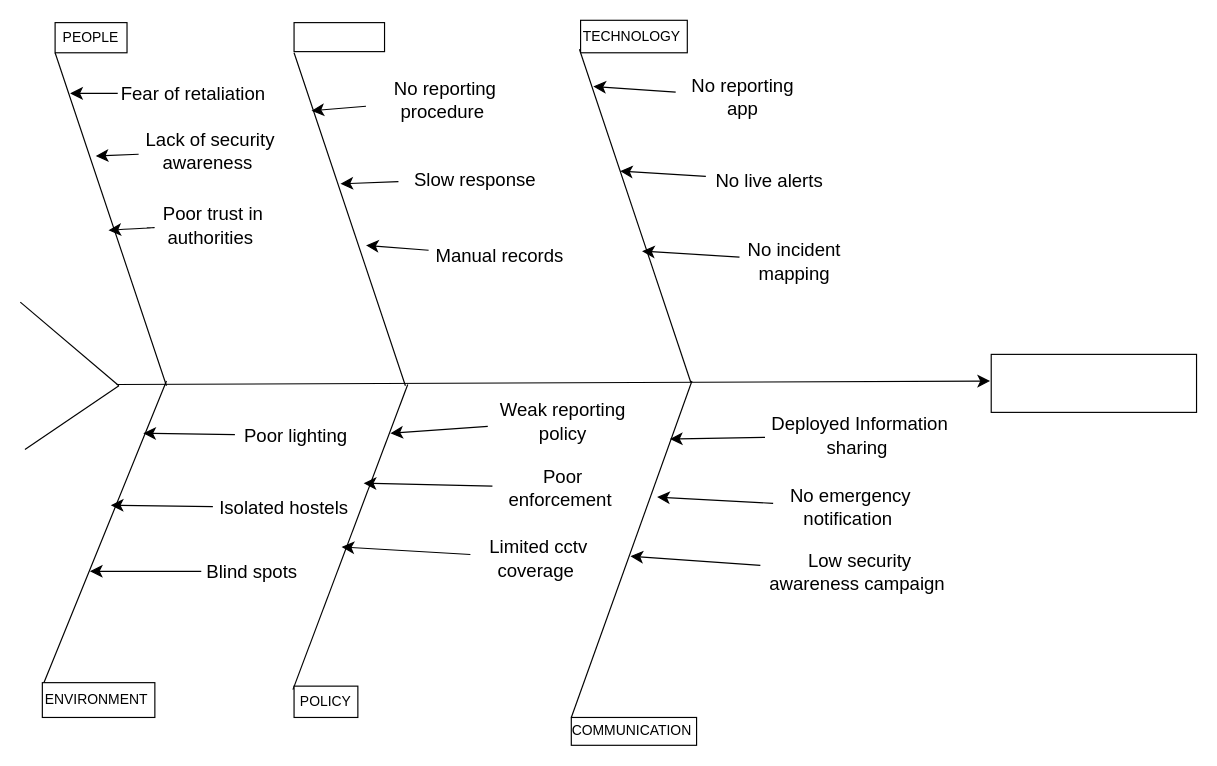
Some shapes in this 1217 by 766 pixel diagram are drawn without their labels. The centre of each missing label's shape, as x and y in pixels:
"CAMPUS INSECURITY" goes at pixel 1093 382.
"PROCESS" goes at pixel 339 36.
